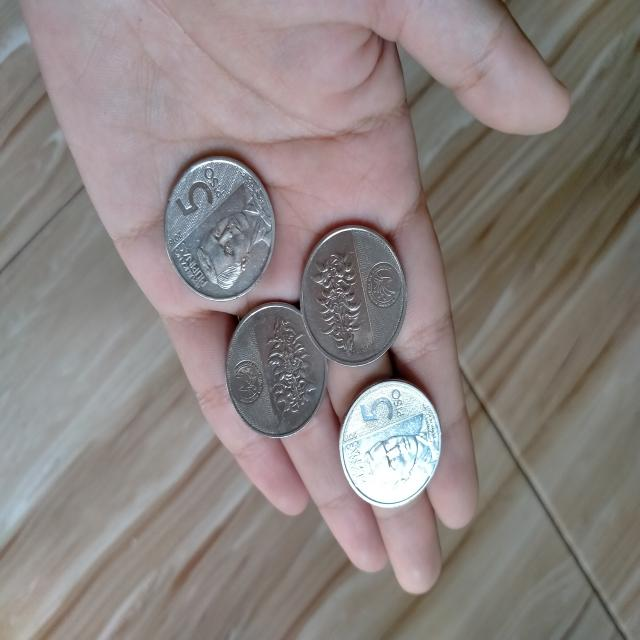5_New_Back: (307, 232, 368, 364), (256, 302, 312, 428)
5_New_Front: (158, 157, 233, 220), (343, 374, 411, 438)
